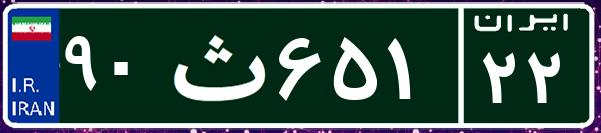0: (110, 28, 158, 105)
1: (385, 28, 445, 110)
2: (475, 38, 525, 113), (525, 38, 570, 115)
5: (330, 28, 385, 110)
6: (273, 28, 330, 110)
9: (57, 26, 110, 107)
ث: (158, 15, 273, 115)
